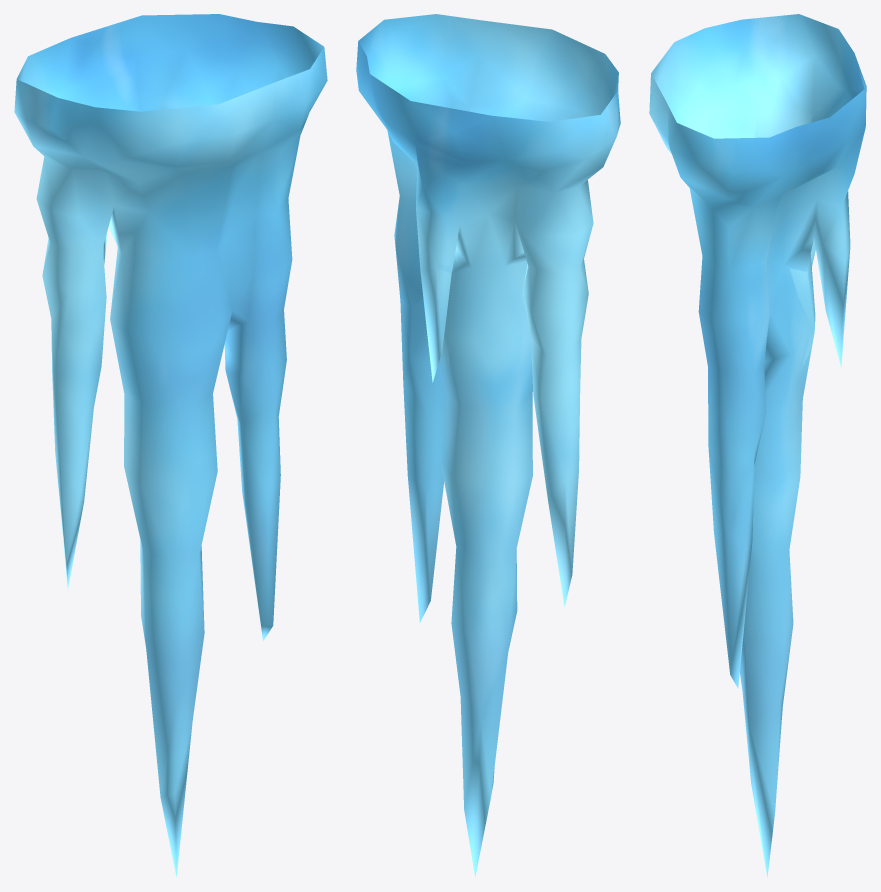
Rendered from SM_Icicle_Cluster_3.glb.
3 views of the same model, side by side, from view 1: azimuth 30°, elevation 25°; view 2: azimuth 150°, elevation 25°; view 3: azimuth 270°, elevation 25° (orthographic). The views are drawn at different scales.
Parts seen in each view (by area): view 1: SM_Icicle_Cluster_3; view 2: SM_Icicle_Cluster_3; view 3: SM_Icicle_Cluster_3.
Boxes of the visible parts, x1,y1,x2,y2 form: SM_Icicle_Cluster_3: [14, 14, 327, 876]; SM_Icicle_Cluster_3: [356, 14, 620, 876]; SM_Icicle_Cluster_3: [649, 14, 866, 877].
Bounding box in the file's own units: 0.7112 × 2.05 × 0.5058.
1 material, 1 textured.
